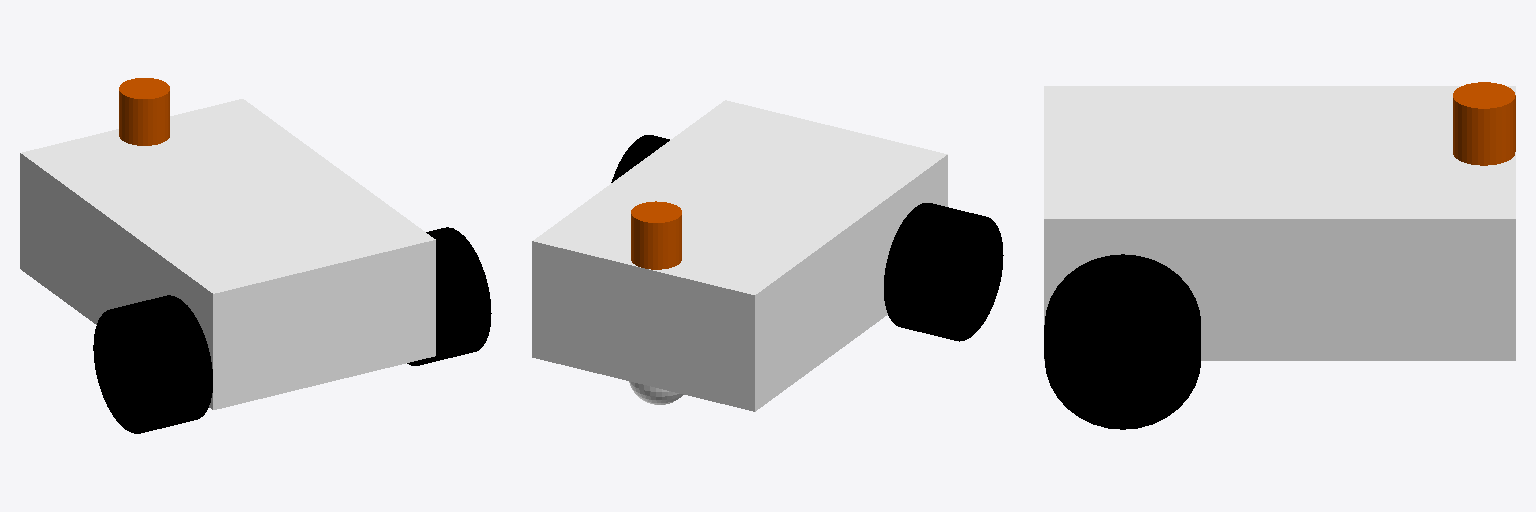
robot.urdf — robot2_simulation:
<?xml version="1.0" ?>
<!-- =================================================================================== -->
<!-- |    This document was autogenerated by xacro from robot2_simulation.xacro        | -->
<!-- |    EDITING THIS FILE BY HAND IS NOT RECOMMENDED                                 | -->
<!-- =================================================================================== -->
<robot name="robot2_simulation" xmlns:xacro="http://ros.org/wiki/xacro">
    <material name="black">
        <color rgba="0 0 0 1"/>
    </material>
    <link name="base_link"/>
    <joint name="body1_joint" type="fixed">
        <parent link="base_link"/>
        <child link="body_link"/>
        <origin rpy="0 0 0" xyz="0 0 0.075"/>
    </joint>
    <link name="body_link">
        <visual>
        <geometry>
            <box size="0.2 0.3 0.1"/>
        </geometry>
        <origin rpy="0 0 0" xyz="0 0 0"/>
        <material name="white">
            <color rgba="1 1 1 1"/>
        </material>
        </visual>
        <inertial>
        <origin rpy="0 0 0" xyz="0 0 0"/>
        <mass value="0.1"/>
        <inertia ixx="1" ixy="0" ixz="0" iyy="1" iyz="0" izz="1"/>
        </inertial>
        <collision>
        <origin rpy="0 0 0" xyz="0 0 0"/>
        <geometry>
            <cylinder length="0.05" radius="0.05"/>
        </geometry>
        </collision>
    </link>
    <gazebo reference="body_link">
        <material>Gazebo/white</material>
    </gazebo>
    <joint name="body_to_ball_joint" type="fixed">
        <origin rpy="0 0 0" xyz="0 0.125 -0.05"/>
        <parent link="body_link"/>
        <child link="ball_link"/>
    </joint>
    <link name="ball_link">
        <visual>
        <origin rpy="0 0 0" xyz="0 0 0"/>
        <geometry>
            <sphere radius="0.025"/>
        </geometry>
        <material name="white">
            <color rgba="1 1 1 1"/>
        </material>
        </visual>
        <inertial>
        <origin rpy="0 0 0" xyz="0 0 0"/>
        <mass value="0.1"/>
        <inertia ixx="1" ixy="0" ixz="0" iyy="1" iyz="0" izz="1"/>
        </inertial>
        <collision>
        <origin rpy="0 0 0" xyz="0 0 0"/>
        <geometry>
            <sphere radius="0.025"/>
        </geometry>
        </collision>
    </link>
    <gazebo reference="ball_name">
        <material>Gazebo/white</material>
    </gazebo>
    <joint name="base_to_wheel_R" type="continuous">
        <origin rpy="0 -1.57079632679 0" xyz="0.125 -0.1 -0.025"/>
        <parent link="body_link"/>
        <child link="wheel_R"/>
        <axis xyz="0 0 1"/>
        <!-- <limit lower="-1" upper="1" effort="1000" velocity="0.5"/> -->
    </joint>
    <link name="wheel_R">
        <visual>
        <geometry>
            <cylinder length="0.05" radius="0.05"/>
        </geometry>
        <origin rpy="0 0 0" xyz="0 0 0"/>
        <material name="black"/>
        </visual>
        <inertial>
        <origin rpy="0 0 0" xyz="0 0 0"/>
        <mass value="0.1"/>
        <inertia ixx="1" ixy="0" ixz="0" iyy="1" iyz="0" izz="1"/>
        </inertial>
        <collision>
        <origin rpy="0 0 0" xyz="0 0 0"/>
        <geometry>
            <cylinder length="0.048" radius="0.05"/>
        </geometry>
        </collision>
    </link>
    <gazebo reference="wheel_R">
        <material>Gazebo/black</material>
    </gazebo>
    <joint name="base_to_wheel_L" type="continuous">
        <origin rpy="0 -1.57079632679 0" xyz="-0.125 -0.1 -0.025"/>
        <parent link="body_link"/>
        <child link="wheel_L"/>
        <axis xyz="0 0 1"/>
        <!-- <limit lower="-1" upper="1" effort="1000" velocity="0.5"/> -->
    </joint>
    <link name="wheel_L">
        <visual>
        <geometry>
            <cylinder length="0.05" radius="0.05"/>
        </geometry>
        <origin rpy="0 0 0" xyz="0 0 0"/>
        <material name="black"/>
        </visual>
        <inertial>
        <origin rpy="0 0 0" xyz="0 0 0"/>
        <mass value="0.1"/>
        <inertia ixx="1" ixy="0" ixz="0" iyy="1" iyz="0" izz="1"/>
        </inertial>
        <collision>
        <origin rpy="0 0 0" xyz="0 0 0"/>
        <geometry>
            <cylinder length="0.048" radius="0.05"/>
        </geometry>
        </collision>
    </link>
    <gazebo reference="wheel_L">
        <material>Gazebo/black</material>
    </gazebo>
    <joint name="laser_joint" type="fixed">
        <parent link="body_link"/>
        <child link="laser_link"/>
        <origin rpy="0 0 1.57079632679" xyz="0 0.13 0.07"/>
    </joint>
    <link name="laser_link">
        <visual>
        <origin rpy="0 0 0" xyz="0 0 0"/>
        <geometry>
            <cylinder length="0.04" radius="0.02"/>
        </geometry>
        <material name="red"/>
        </visual>
        <collision>
        <origin rpy="0 0 0" xyz="0 0 0"/>
        <geometry>
            <cylinder length="0.04" radius="0.02"/>
        </geometry>
        </collision>
    </link>
    <gazebo reference="laser_link">
        <material>Gazebo/Red</material>
        <sensor name="laser" type="ray">
        <pose>0 0 0 0 0 0</pose>
        <visualize>true</visualize>
        <update_rate>10</update_rate>
        <ray>
            <scan>
            <horizontal>
                <samples>400</samples>
                <resolution>1</resolution>
                <min_angle>-1.0471975512</min_angle>
                <max_angle>1.0471975512</max_angle>
            </horizontal>
            </scan>
            <range>
            <min>0.10</min>
            <max>20.0</max>
            <resolution>0.01</resolution>
            </range>
            <noise>
            <type>gaussian</type>
            <mean>0.0</mean>
            <stddev>0.01</stddev>
            </noise>
        </ray>
        <plugin filename="libgazebo_ros_laser.so" name="gazebo_ros_lidar_controller">
            <topicName>/laser_link/scan</topicName>
            <frameName>laser_link</frameName>
        </plugin>
        </sensor>
    </gazebo>
</robot>

--- Facts derived from the render (not from the file) ---
Views: 3 orthographic renders of the robot side by side, from view 1: azimuth 30°, elevation 25°; view 2: azimuth 150°, elevation 25°; view 3: azimuth 270°, elevation 25°.
Robot: robot2_simulation — 6 links, 5 joints (2 continuous, 3 fixed); root link base_link; default pose: every joint at zero.
Visible links, largest first — view 1: body_link, wheel_L, wheel_R, laser_link; view 2: body_link, wheel_L, laser_link, wheel_R, ball_link; view 3: body_link, wheel_R, laser_link.
Link boxes in pixels (box(x1,y1,x2,y2)): body_link: box(20, 99, 435, 409); wheel_L: box(93, 295, 212, 433); wheel_R: box(407, 227, 491, 365); laser_link: box(119, 78, 169, 145); body_link: box(532, 100, 947, 411); wheel_L: box(884, 203, 1003, 341); laser_link: box(631, 201, 681, 269); wheel_R: box(611, 135, 669, 182); ball_link: box(629, 381, 683, 404); body_link: box(1044, 86, 1515, 360); wheel_R: box(1044, 254, 1200, 429); laser_link: box(1453, 82, 1515, 165).
Bounding box of the posed robot: 0.3 × 0.3 × 0.165 m (x, y, z).
Geometry: primitives only (box / cylinder / sphere), no mesh files.
